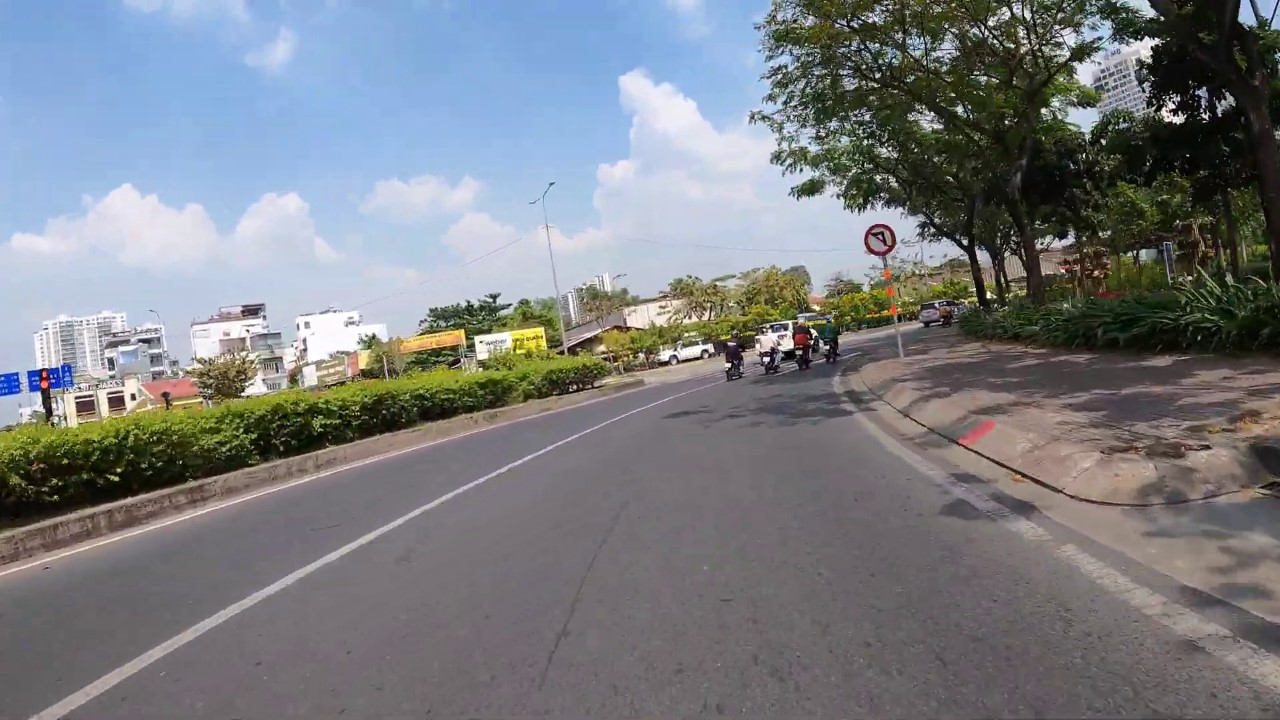cam_re_trai: (863, 223, 897, 257)
